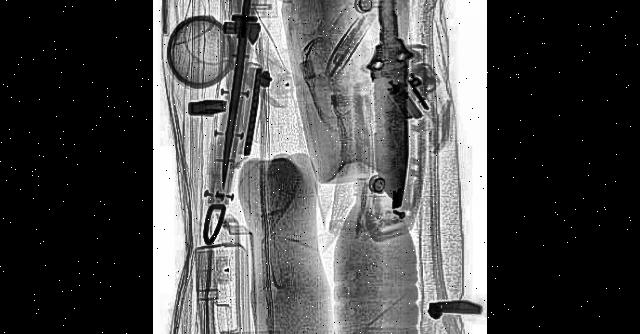Knife: (205, 0, 278, 199), (363, 0, 422, 211)
